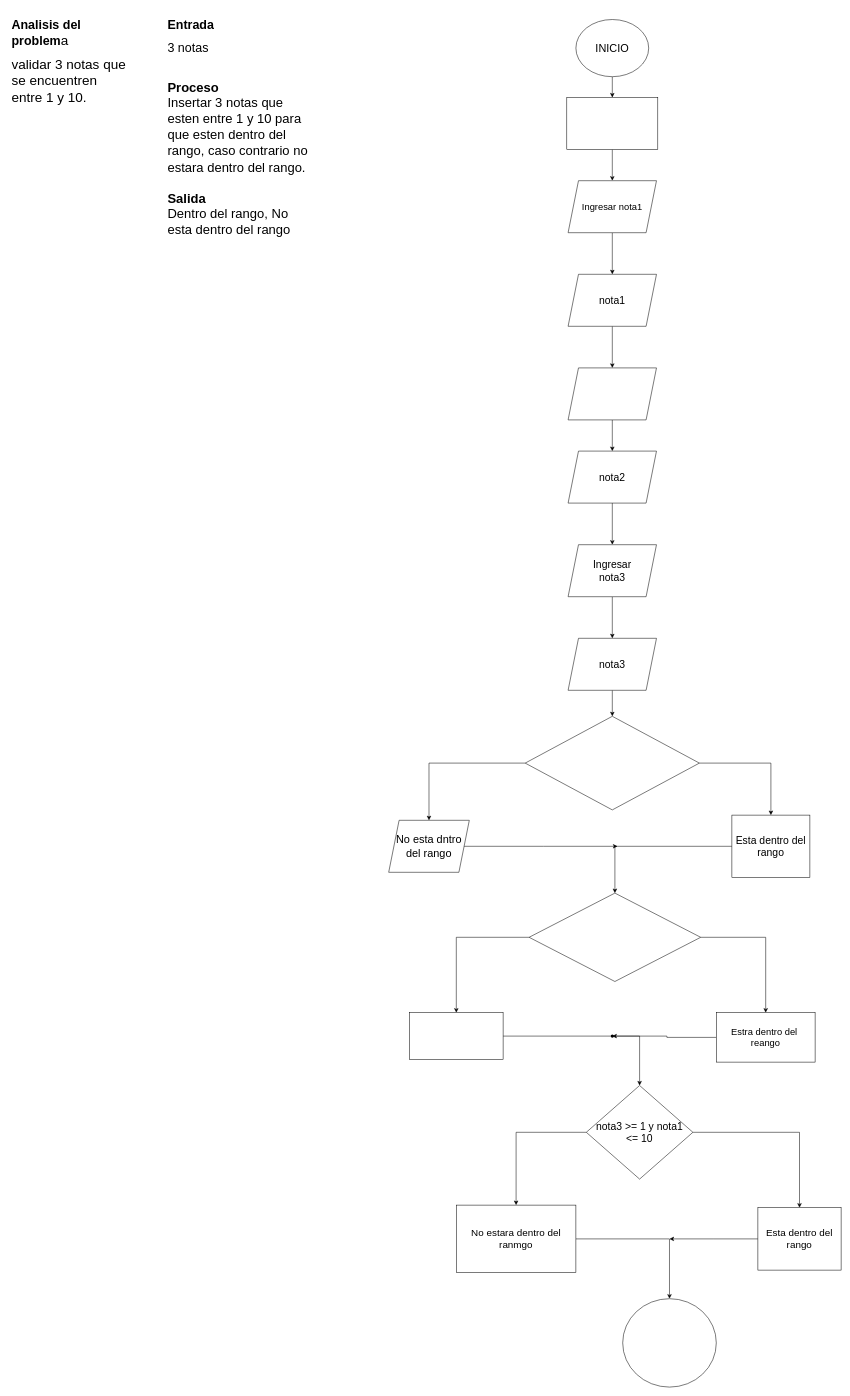
Image size: 850x1396. Some labels were removed from this diagram. The shapes that lost their labels are listed below. From the top down, each one's box as (x1, y1, x2, y2) in pixels, then its label:
(566, 97, 658, 150): Definir nota1, nota2, nota3 como Real
(568, 367, 656, 420): Ingresar nota2
(525, 716, 699, 810): nota1 >= 1 y nota1 <= 10
(529, 893, 701, 982): nota2 >= 1 y nota2 <= 10
(409, 1012, 503, 1060): No esta dentro del rango
(622, 1298, 716, 1387): FIN
